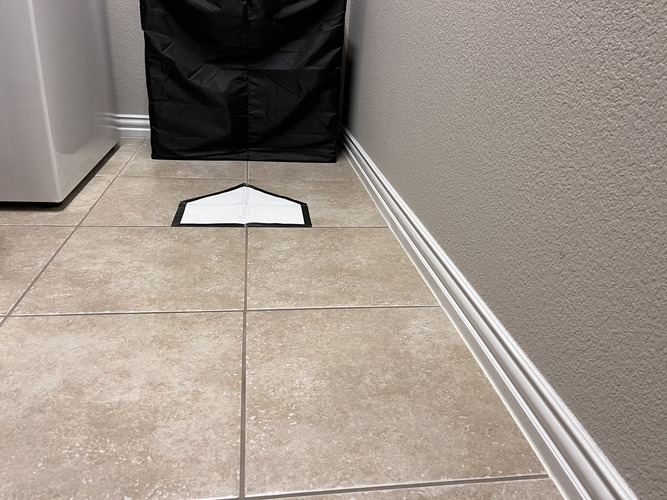homeplate: (171, 183, 311, 227)
